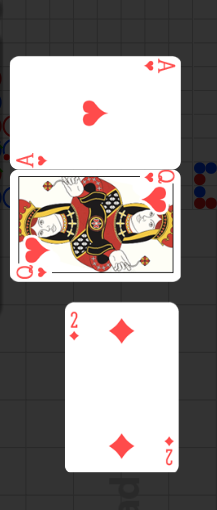2D: (67, 311, 80, 343), (162, 435, 174, 468)
AH: (14, 152, 48, 169)
